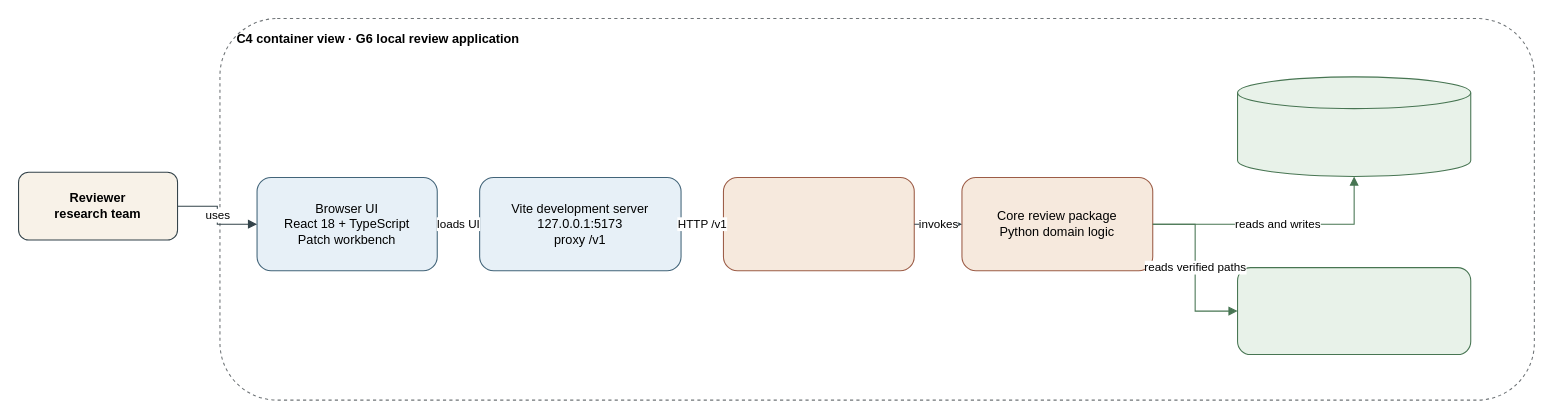
This 1553x419 diagram has some shape labels left out. The box of each missing label's shape, as (x1, y1, x2, y2) in pixels:
Core API FastAPI · /v1 127.0.0.1:8137: (722, 176, 914, 271)
G6 SQLite store source/QC · predictions review events: (1236, 76, 1471, 176)
Local allowlisted files verified images · thumbnails optional model artifacts: (1236, 267, 1471, 355)
